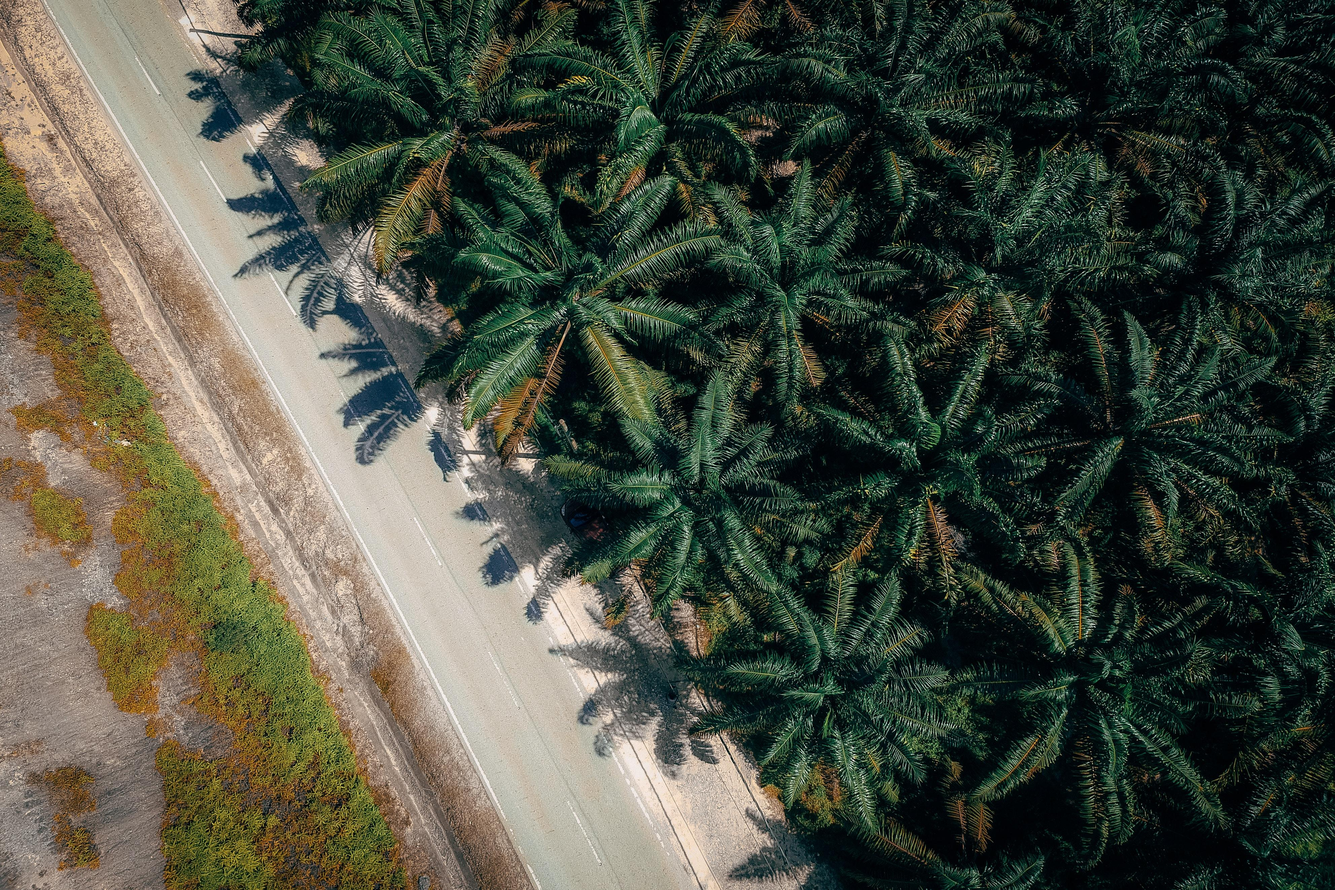coconut_tree: (974, 547, 1215, 834), (460, 216, 728, 425), (321, 14, 570, 231), (732, 576, 948, 823), (1067, 293, 1257, 525), (585, 421, 825, 602), (793, 34, 1021, 202), (854, 348, 1038, 541), (585, 15, 783, 175)
